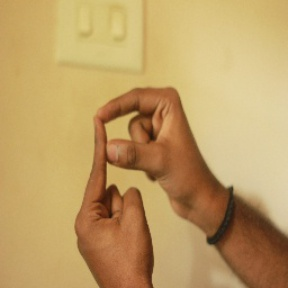P: (65, 81, 194, 244)
